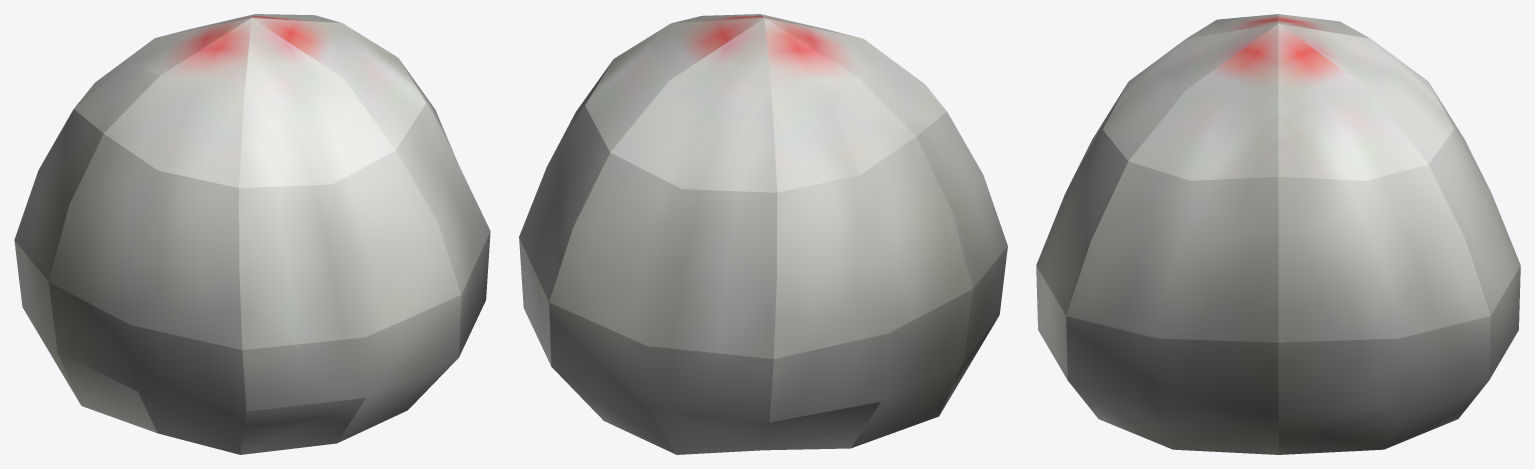
The model's file is baozi.FBX.
3 views of the same model, side by side, from view 1: azimuth 30°, elevation 25°; view 2: azimuth 150°, elevation 25°; view 3: azimuth 270°, elevation 25° (orthographic). The views are drawn at different scales.
Parts seen in each view (by area): view 1: baozi; view 2: baozi; view 3: baozi.
Boxes of the visible parts, x1=… form: baozi: x1=14, y1=14, x2=490, y2=454; baozi: x1=519, y1=14, x2=1007, y2=454; baozi: x1=1036, y1=14, x2=1520, y2=454.
Bounding box in the file's own units: 8.3 × 7.15 × 8.16.
